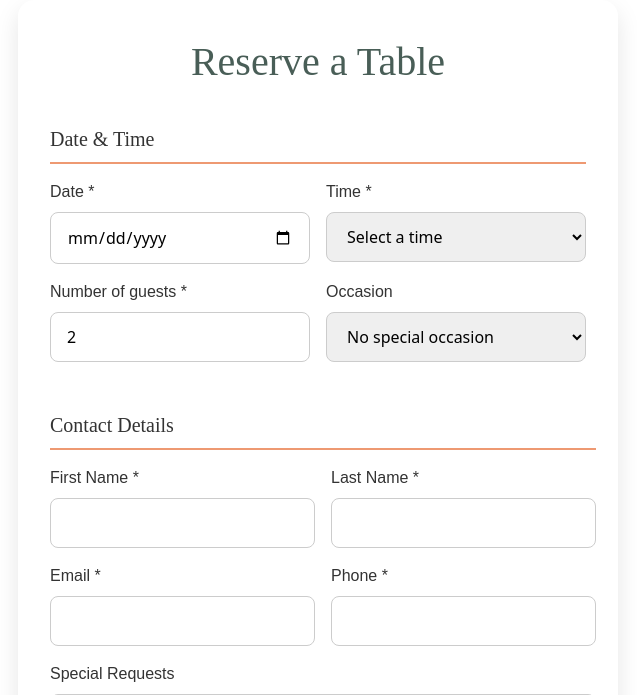
Test: BookingForm validation - invalid states › shows error when required fields are missing
The width and height of the screenshot is (637, 695).
// Fill only some fields
Type "2025-03-15" into the date field labelled "Date *" at (180, 238), box 50,212 -> 310,264
(page scrolled)
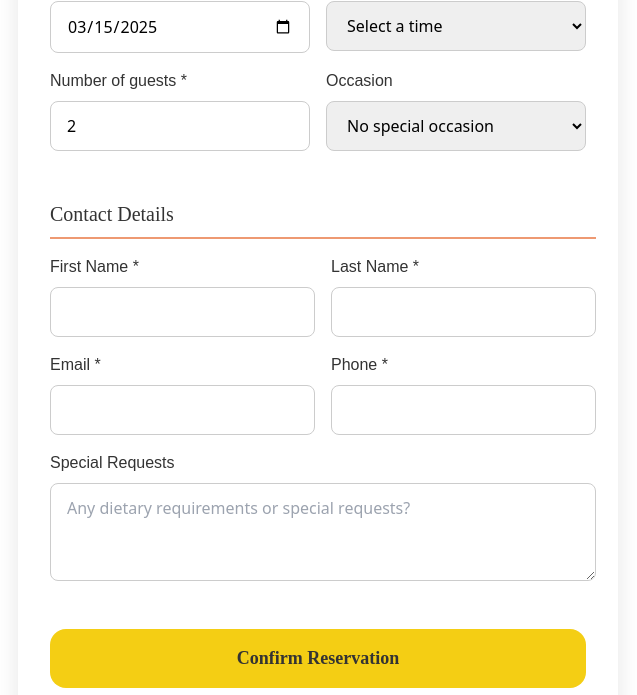
Click the button "Confirm Reservation" at (318, 658), box 50,629 -> 586,688
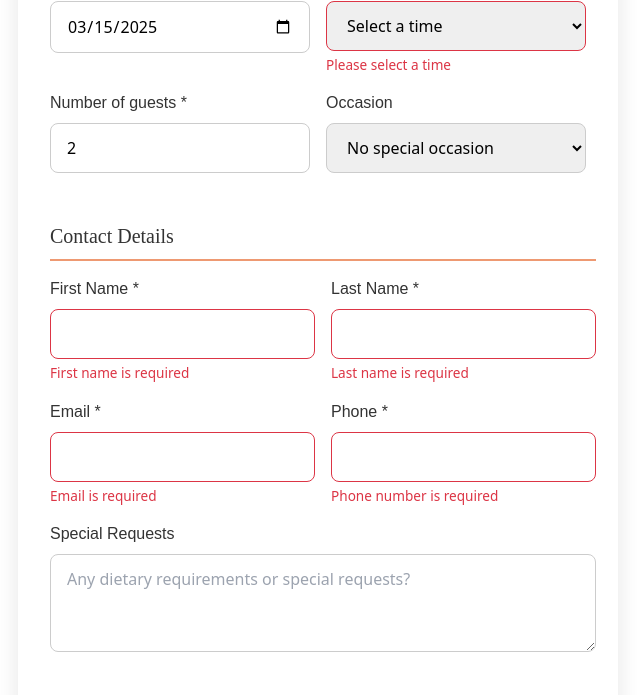
Expected: the text "Please select a time" is shown, 326,55 -> 451,74
